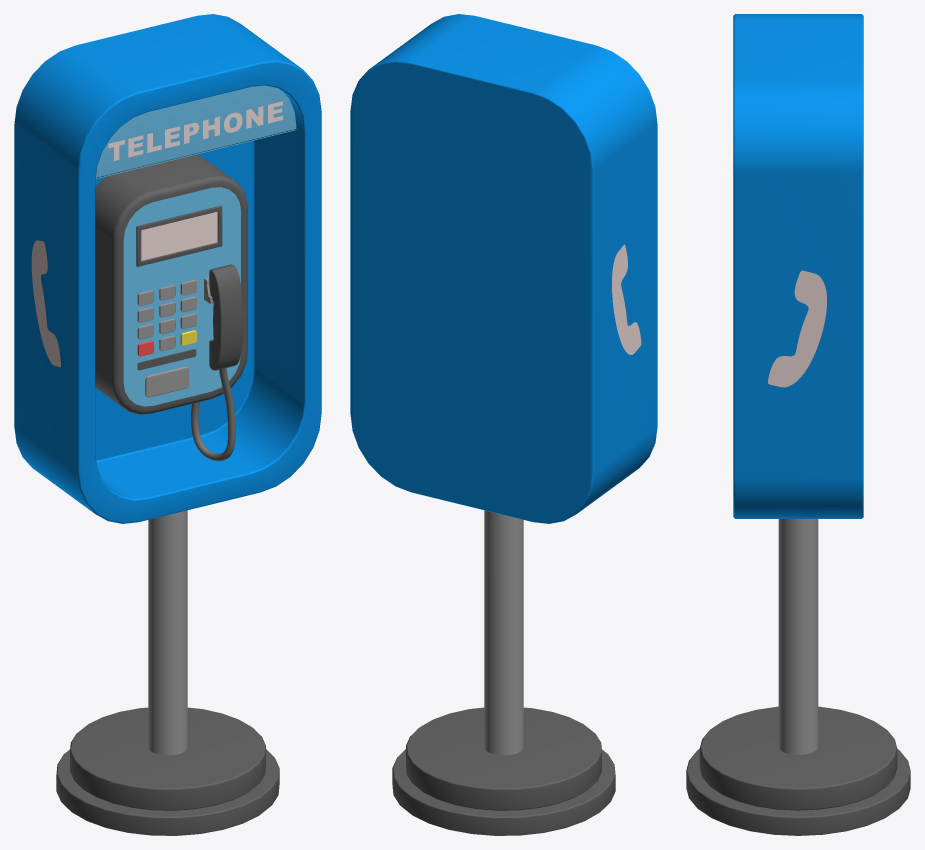
The model's file is City_16_Telephone_Booth_1.glb.
3 renders of one model, left to right at view 1: azimuth 30°, elevation 25°; view 2: azimuth 150°, elevation 25°; view 3: azimuth 270°, elevation 25°, orthographic.
Visible parts, largest first — view 1: City_16_Telephone_Booth_1; view 2: City_16_Telephone_Booth_1; view 3: City_16_Telephone_Booth_1.
Part boxes in pixels (bbox=[...]): City_16_Telephone_Booth_1: bbox=[14, 14, 321, 835]; City_16_Telephone_Booth_1: bbox=[350, 14, 657, 835]; City_16_Telephone_Booth_1: bbox=[686, 14, 910, 835].
Size of the model in its own units: 0.7334 by 2.11 by 0.5817.
Materials: 1 (1 with a texture image).
